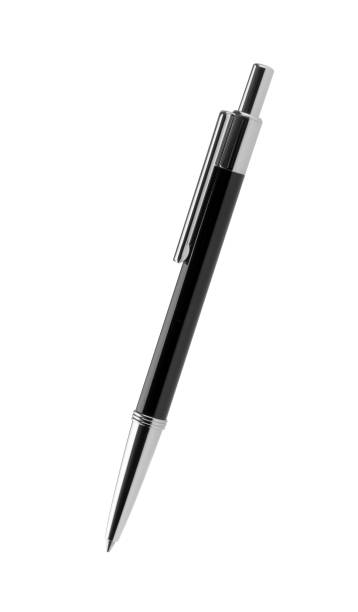pen: (92, 53, 286, 559)
